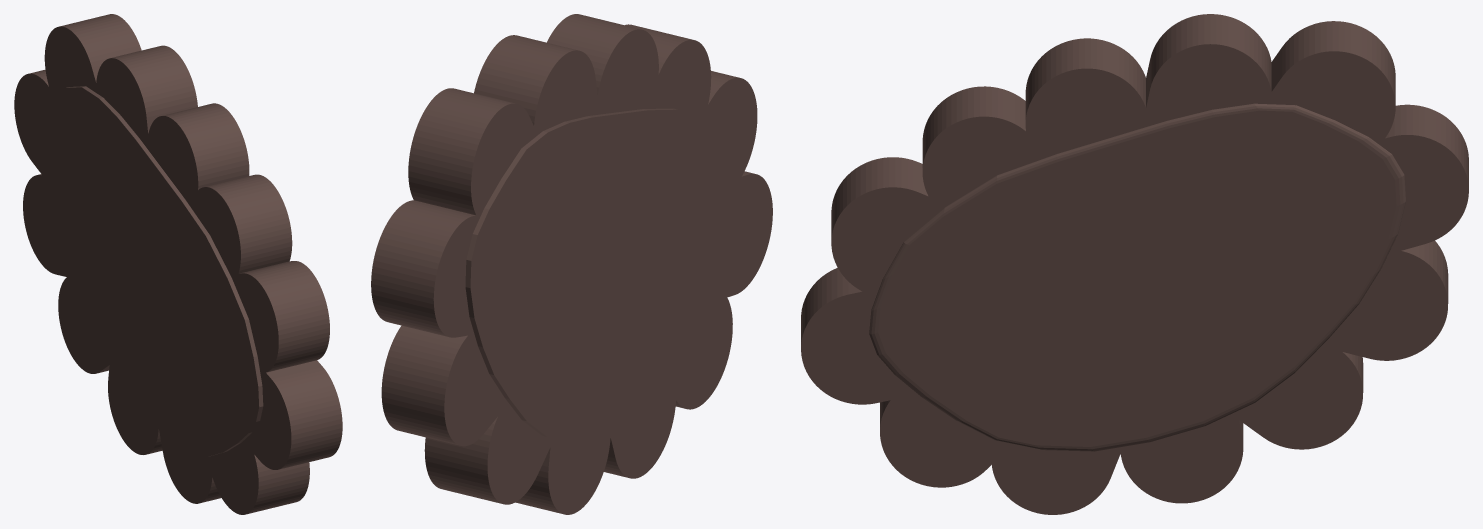
The model's file is BlockTissue2.fbx.
3 renders of one model, left to right at view 1: azimuth 30°, elevation 25°; view 2: azimuth 150°, elevation 25°; view 3: azimuth 270°, elevation 25°, orthographic. The views are drawn at different scales.
Visible parts, largest first — view 1: Plane.039; view 2: Plane.039; view 3: Plane.039.
Part boxes in pixels (left/top/right/bottom): Plane.039: left=14, top=14, right=342, bottom=514; Plane.039: left=371, top=14, right=772, bottom=514; Plane.039: left=801, top=14, right=1468, bottom=514.
Bounding box in the file's own units: 8.73 × 56.12 × 72.15.
